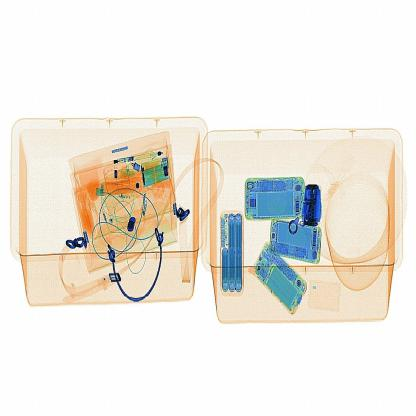scissors: (298, 176, 330, 236)
